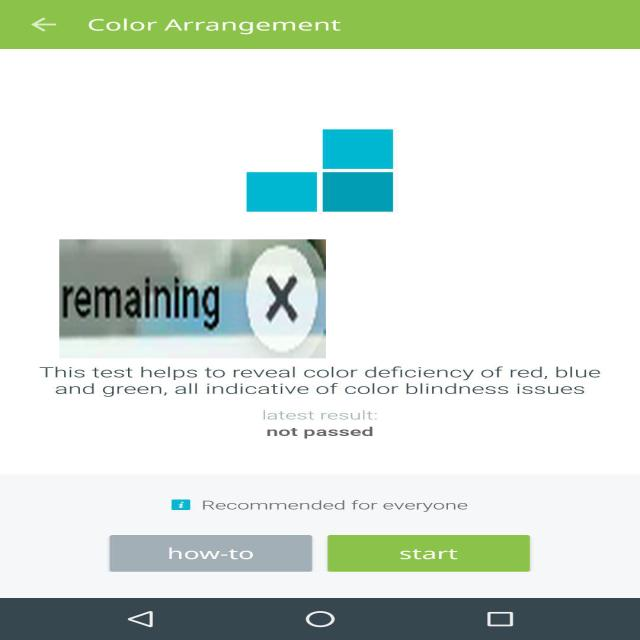misdirection: (59, 240, 326, 358)
